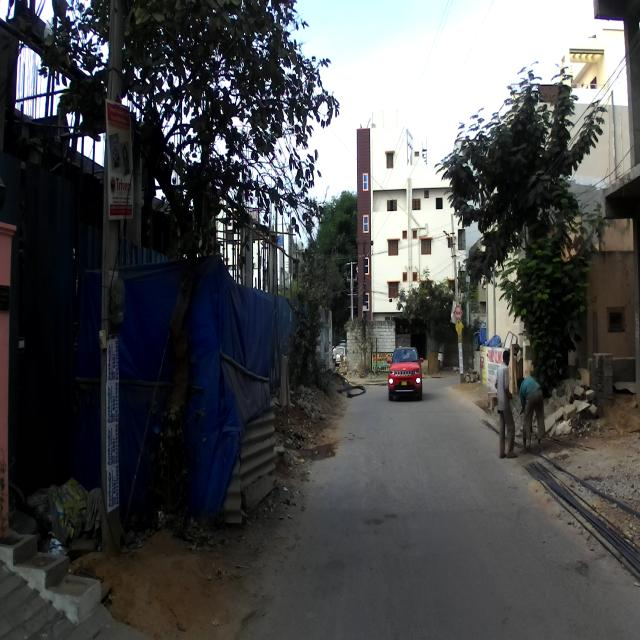car ahead at: (382, 338, 422, 399)
electric pole ahead at: (89, 0, 149, 555)
person ahead at: (495, 342, 519, 470), (518, 368, 551, 456)
